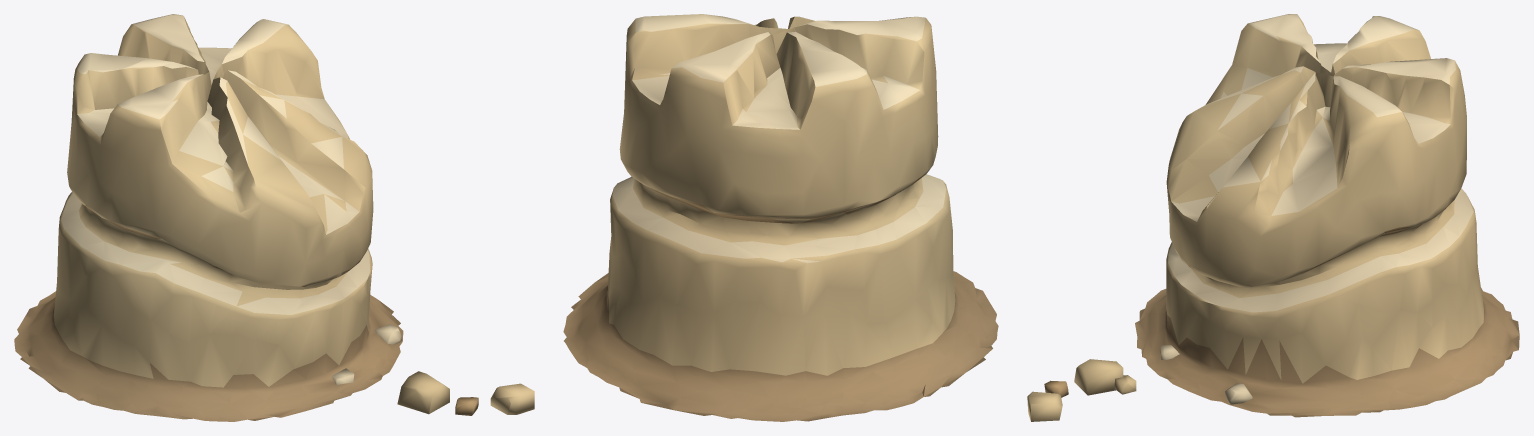
Rendered from shore_sand_pie_d.glb.
The picture shows the model from 3 angles, left to right: view 1: azimuth 30°, elevation 25°; view 2: azimuth 150°, elevation 25°; view 3: azimuth 270°, elevation 25°; orthographic projection. The views are drawn at different scales.
Parts seen in each view (by area): view 1: shore_sand_pie_d; view 2: shore_sand_pie_d; view 3: shore_sand_pie_d.
Part boxes in pixels (x1=…): shore_sand_pie_d: x1=14, y1=14, x2=534, y2=421; shore_sand_pie_d: x1=563, y1=14, x2=998, y2=421; shore_sand_pie_d: x1=1027, y1=14, x2=1519, y2=421.
Size of the model in its own units: 4.44 by 3.46 by 5.6.
